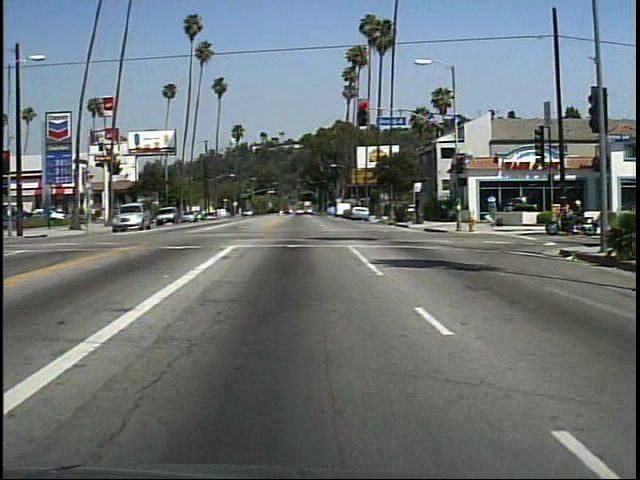person: (562, 194, 588, 238), (484, 191, 501, 228)
